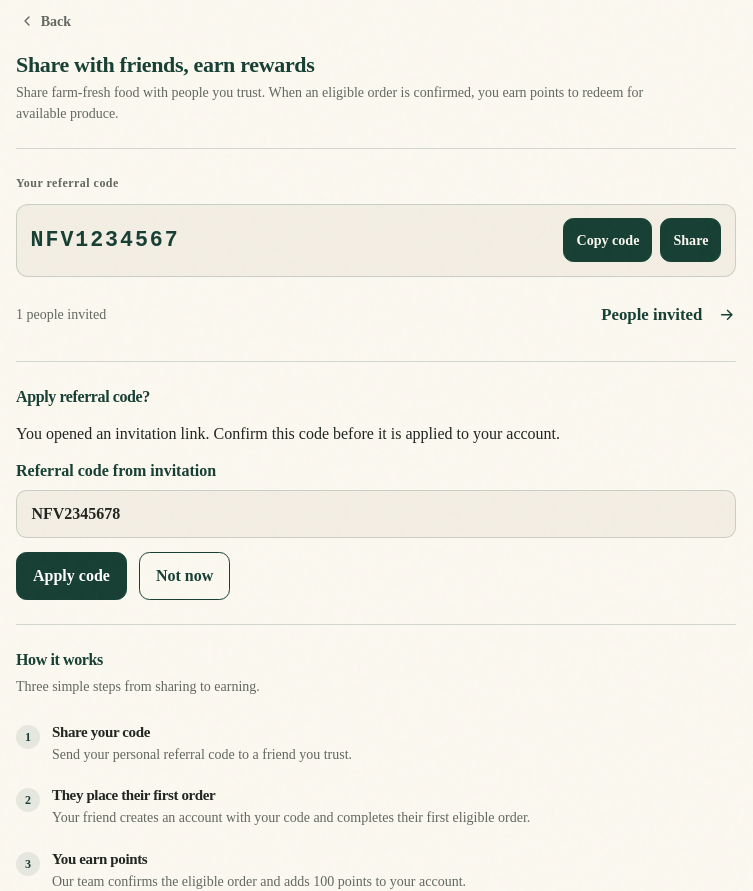
Test: public account pages › requires confirmation before applying a referral link code
Expected: the heading "Apply referral code?" is shown, [16,388,150,405]
Expected: the field labelled "Referral code from invitation" holds "NFV2345678", [16,490,736,538]
Click the button "Apply code": (71,576) [16,552,127,600]
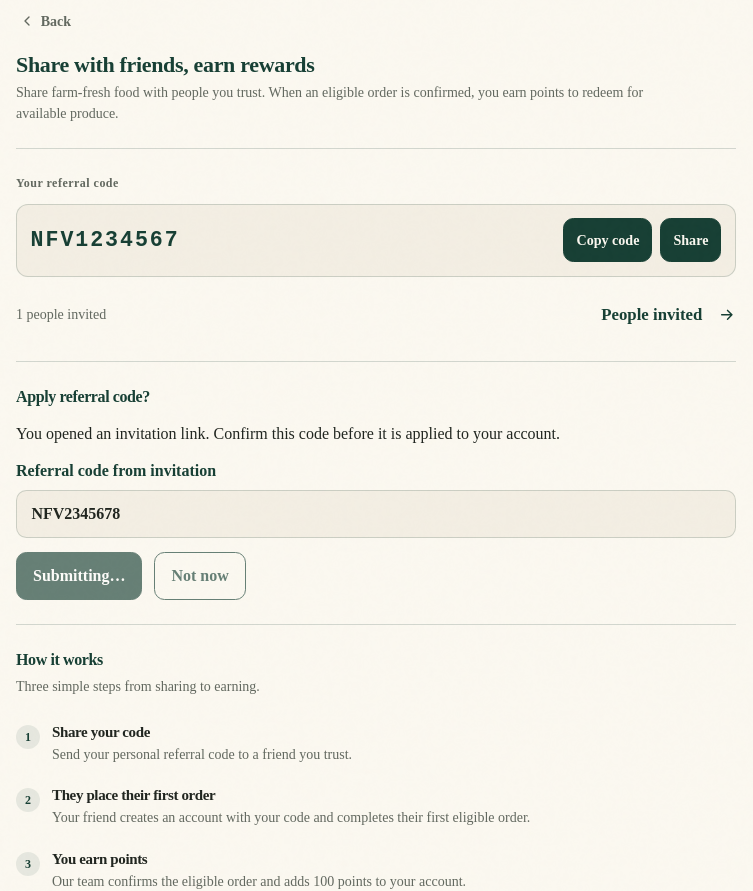
Click the button named "Apply code": (79,576) [16,552,142,600]
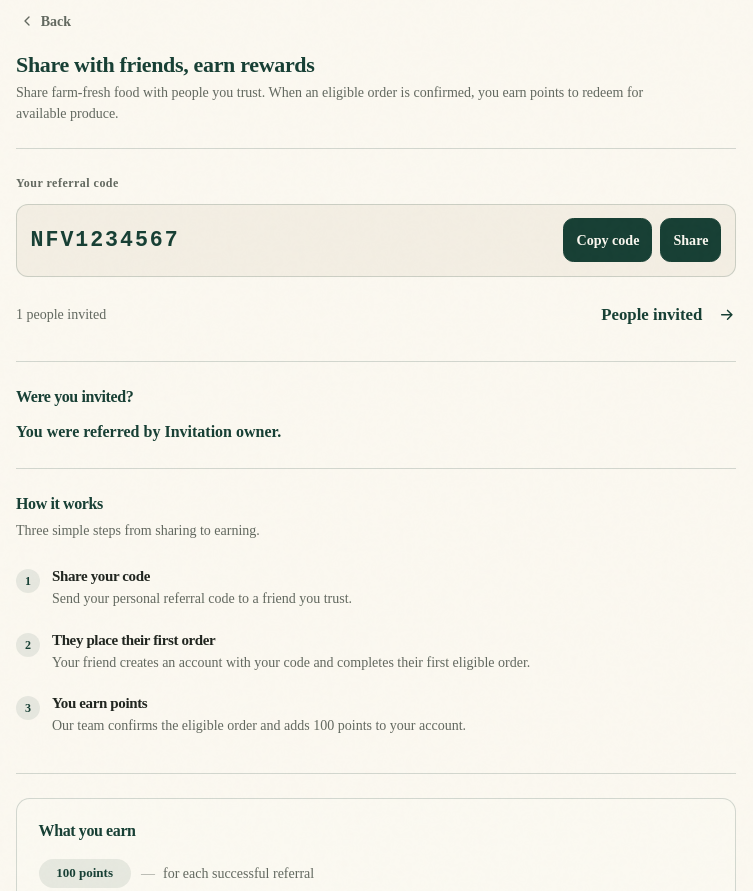
Now the text "You were referred by Invitation owner." is shown, box [16,423,281,440]
